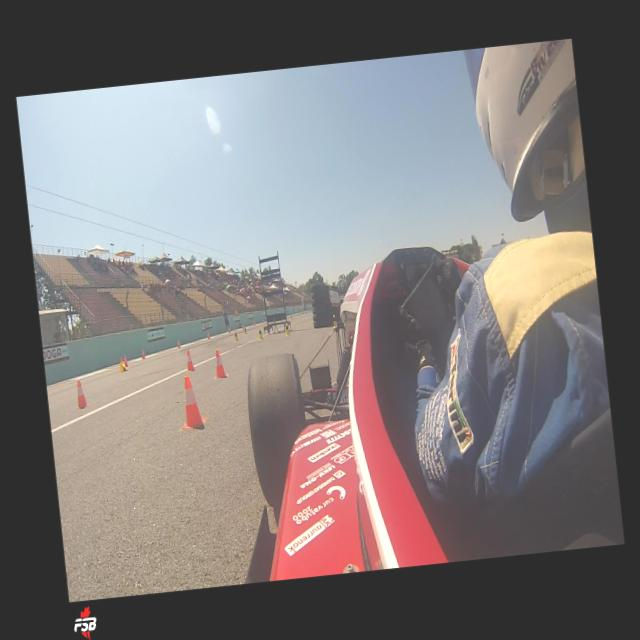orange_cone: (177, 374, 207, 430), (212, 347, 228, 378), (74, 379, 89, 409), (184, 348, 196, 372), (122, 354, 128, 367), (141, 348, 146, 359), (176, 338, 180, 348), (207, 331, 210, 339), (252, 321, 255, 326), (242, 324, 244, 330), (228, 327, 230, 332)
yellow_cone: (119, 360, 128, 372), (331, 313, 337, 327), (284, 322, 290, 336), (257, 327, 263, 340), (233, 331, 239, 342), (243, 326, 247, 335), (290, 314, 292, 320)
